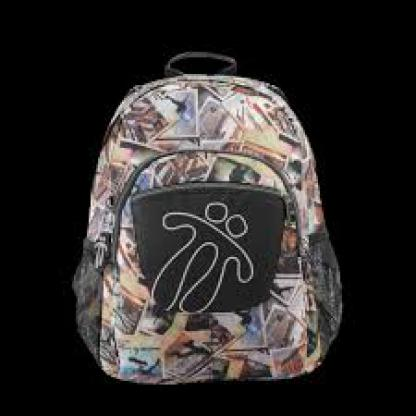morral: (63, 57, 355, 392)
